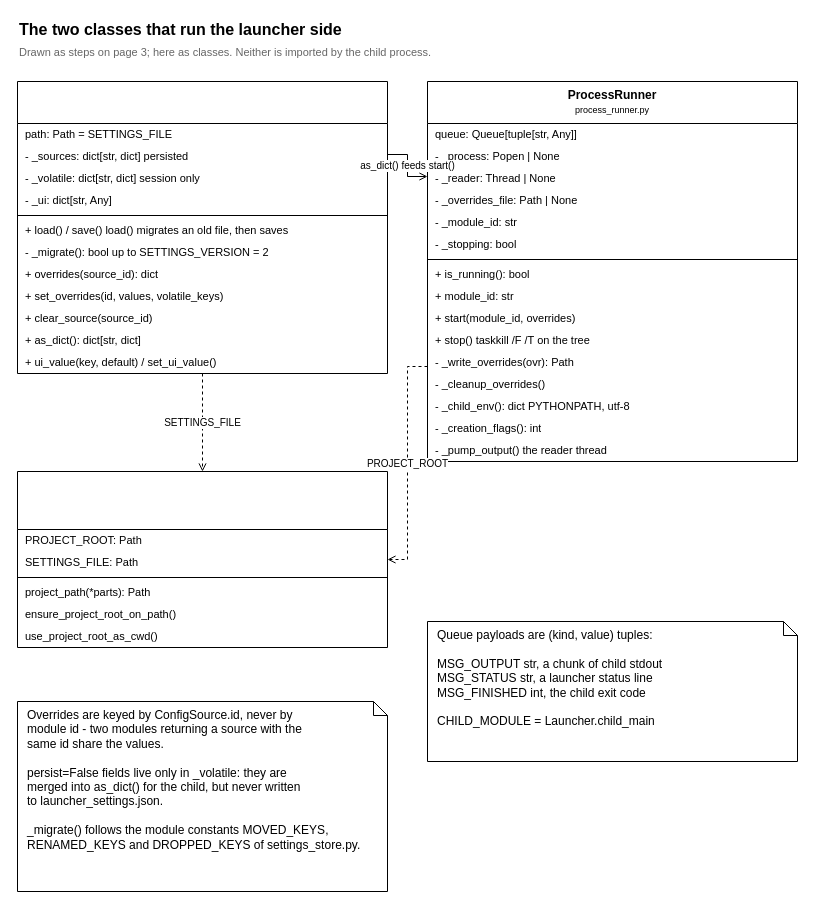
The diagram is 815 pixels wide and 909 high, and some of its shapes have lost their labels. The shapes that lost their labels are listed below. From the top down, each one's box as (x1, y1, x2, y2) in pixels, then its label:
(16, 80, 388, 374): SettingsStore settings_store.py
(16, 470, 388, 648): «module» project project.py
